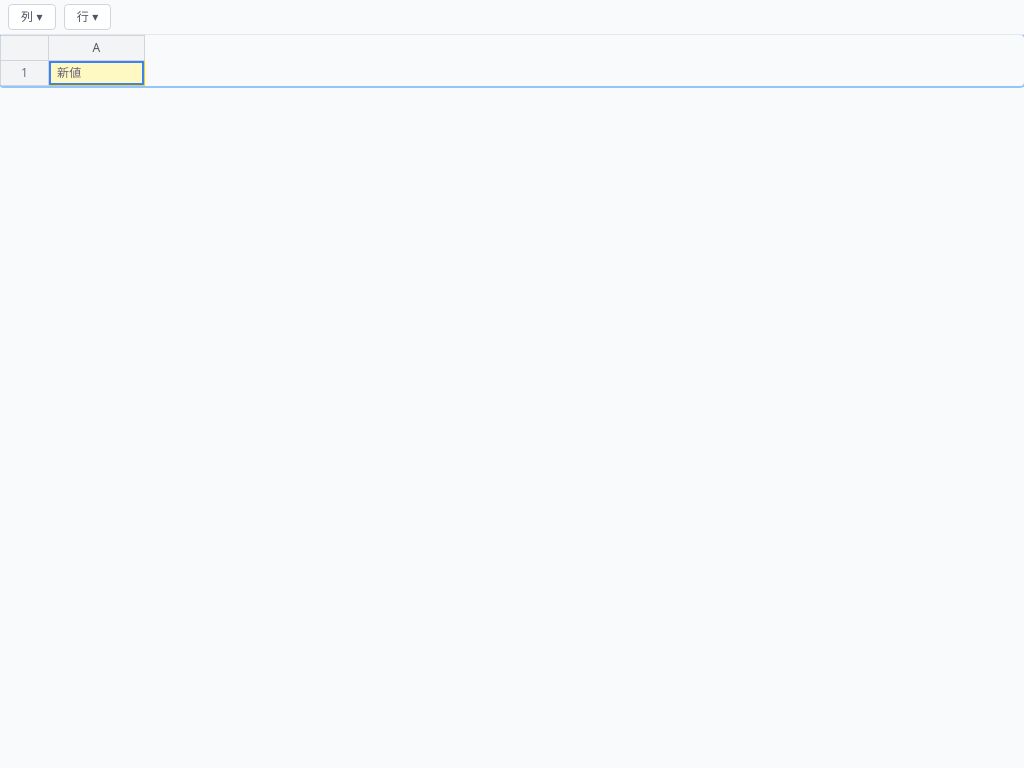
B-032: 詳細モーダルのサイズ固定とセル表示の統一 › 3ファイル比較では C 欄も常に表示される（c_value が null でも）
Step 1. Click the cell "新値" → [96, 73], box [48,60,144,86]
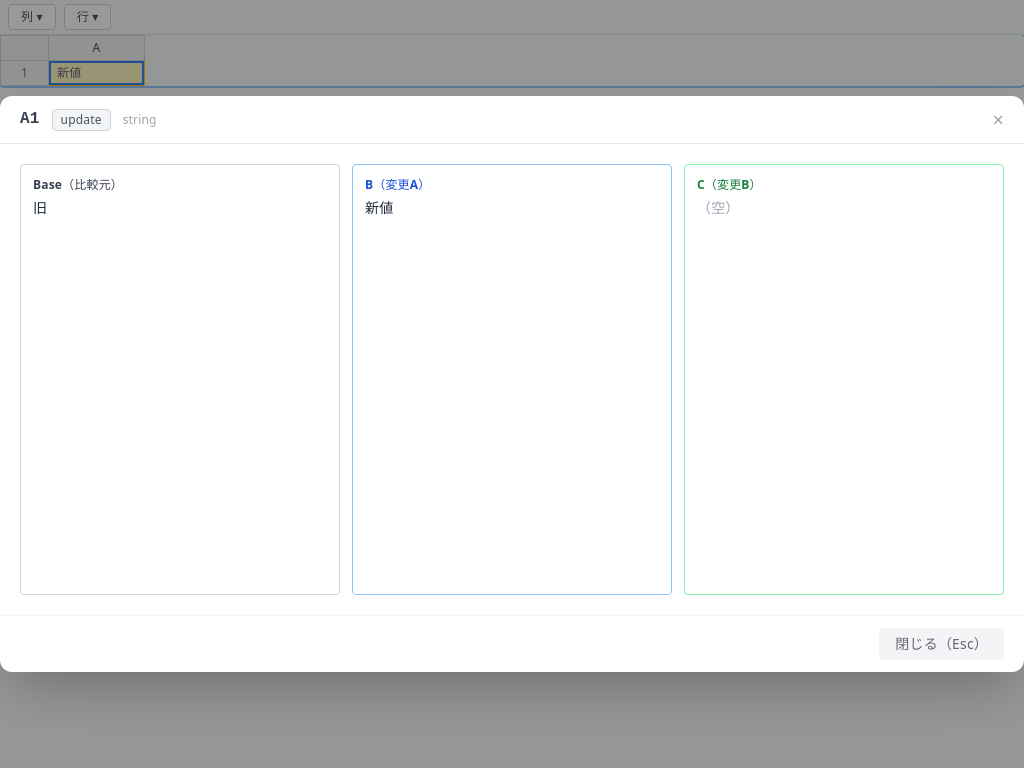
Check: the text "Base（比較元）" is shown, box [33,176,123,193]
Check: the text "B（変更A）" is shown, box [365,176,430,193]
Check: the text "C（変更B）" is shown, box [697,176,762,193]
